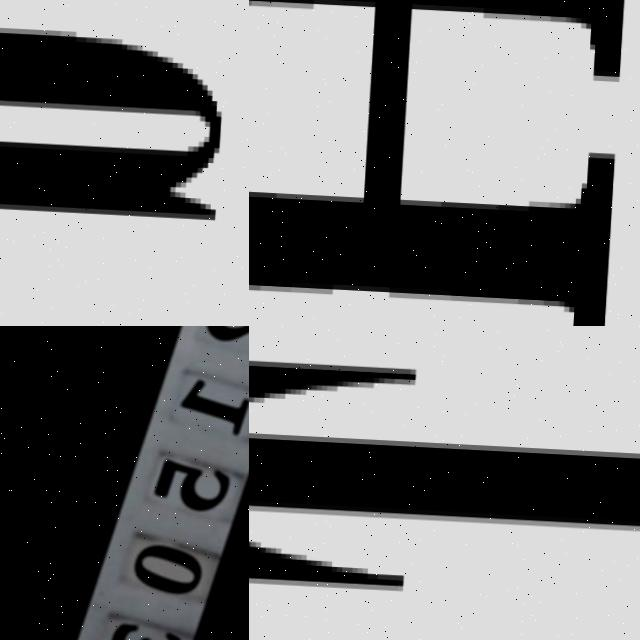0: (122, 532, 214, 606)
1: (165, 368, 249, 439)
2: (187, 326, 249, 363)
3: (97, 609, 189, 640)
5: (141, 447, 240, 522)
G: (0, 7, 225, 240)
H: (249, 0, 622, 326)
T: (249, 342, 640, 612)
